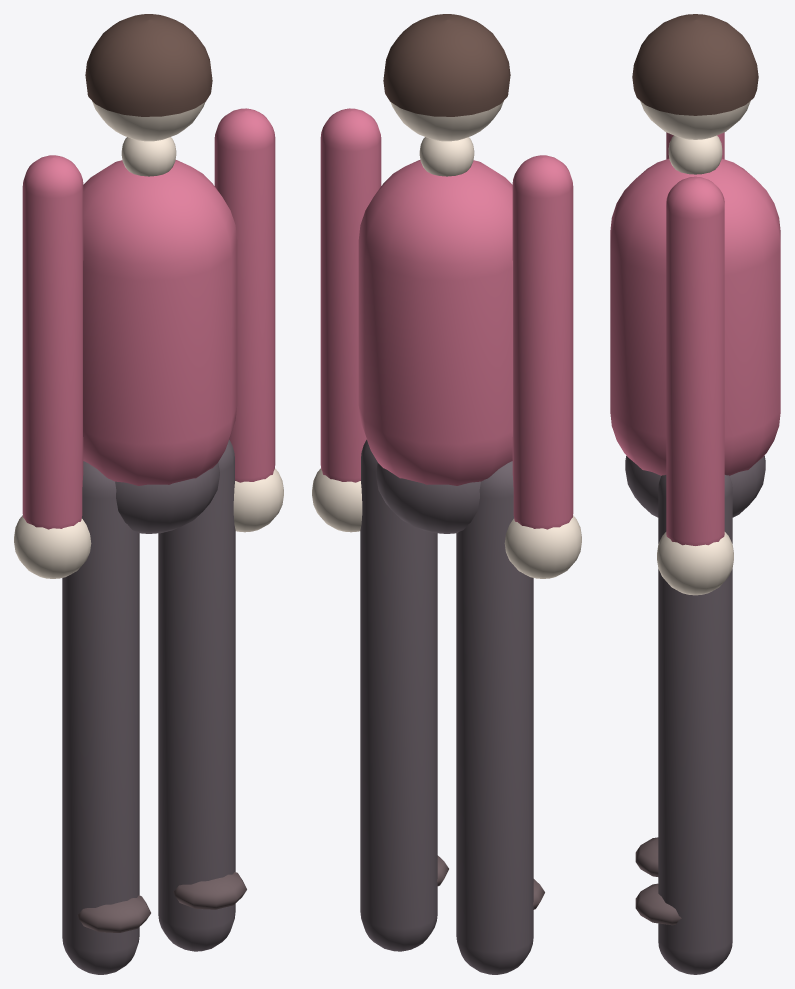
The model's file is female_elegant_30.glb.
The picture shows the model from 3 angles, left to right: view 1: azimuth 30°, elevation 25°; view 2: azimuth 150°, elevation 25°; view 3: azimuth 270°, elevation 25°; orthographic projection.
Visible parts, largest first — view 1: torso, leg_l, leg_r, arm_l, arm_r, hair, hips, hand_l, hand_r, head, shoe_r, shoe_l (+1 smaller); view 2: torso, leg_l, leg_r, arm_l, arm_r, hair, hips, hand_l, hand_r, head, neck; view 3: torso, leg_r, arm_r, hair, hand_r, hips, head, neck, shoe_r, shoe_l.
Boxes of the visible parts, x1,y1,x2,y2 form: torso: (83,160,237,485); leg_l: (62,461,139,974); leg_r: (158,439,235,951); arm_l: (22,155,83,529); arm_r: (214,108,275,482); hair: (85,14,212,116); hips: (115,462,219,533); hand_l: (14,515,91,578); hand_r: (233,468,283,532); head: (92,101,205,141); shoe_r: (173,872,246,909); shoe_l: (77,895,150,932); torso: (358,160,512,485); leg_l: (456,461,533,974); leg_r: (360,439,437,951); arm_l: (512,155,573,529); arm_r: (320,108,381,482); hair: (383,14,510,116); hips: (376,462,480,533); hand_l: (504,515,581,578); hand_r: (312,468,362,532); head: (390,101,503,141); neck: (419,137,474,176); torso: (610,158,780,475); leg_r: (658,475,732,974); arm_r: (666,176,724,545); hair: (632,14,758,115); hand_r: (657,532,733,595); hips: (625,456,765,517); head: (640,101,750,139); neck: (668,135,722,174); shoe_r: (635,883,681,925); shoe_l: (635,837,658,876).
Size of the model in its own units: 0.5104 by 1.76 by 0.2933.
